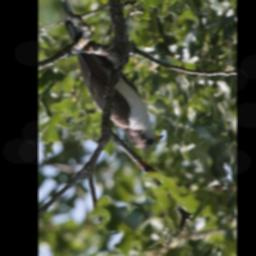Cuckoo: (52, 0, 165, 150)
